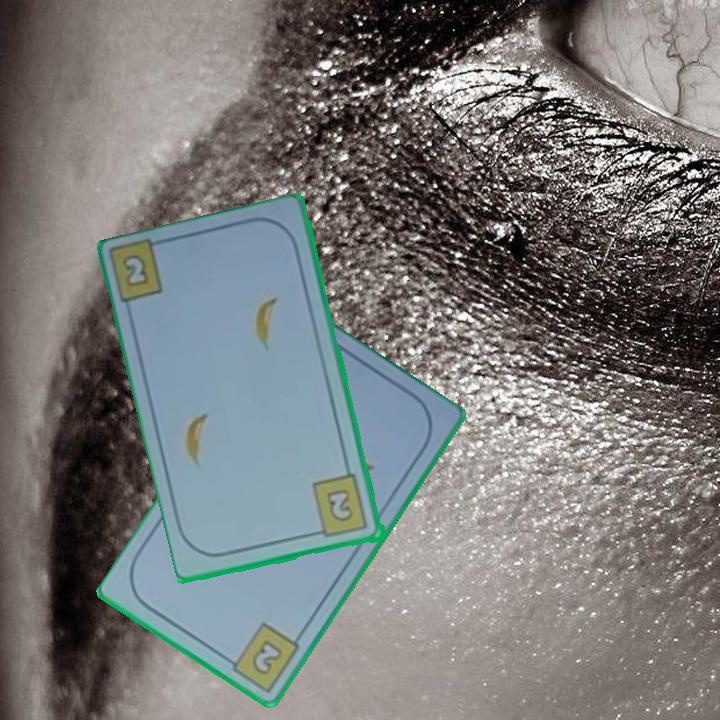2b: (220, 619, 303, 695), (309, 471, 371, 541), (118, 250, 152, 291)
